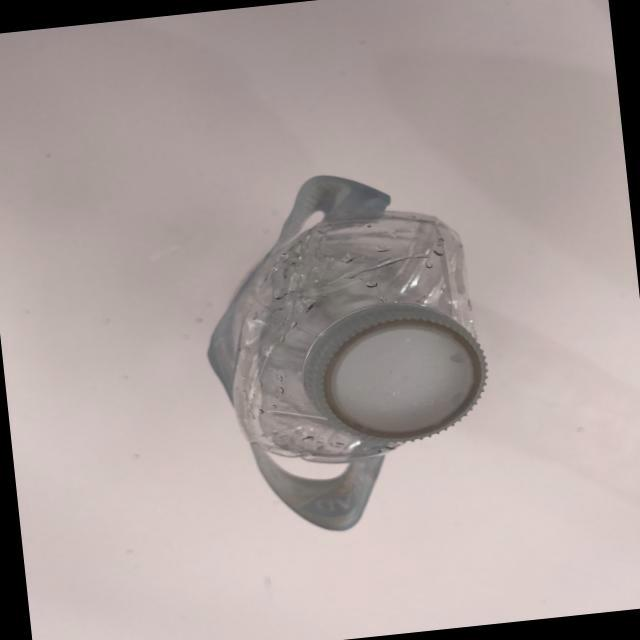plastic: (143, 128, 563, 556)
